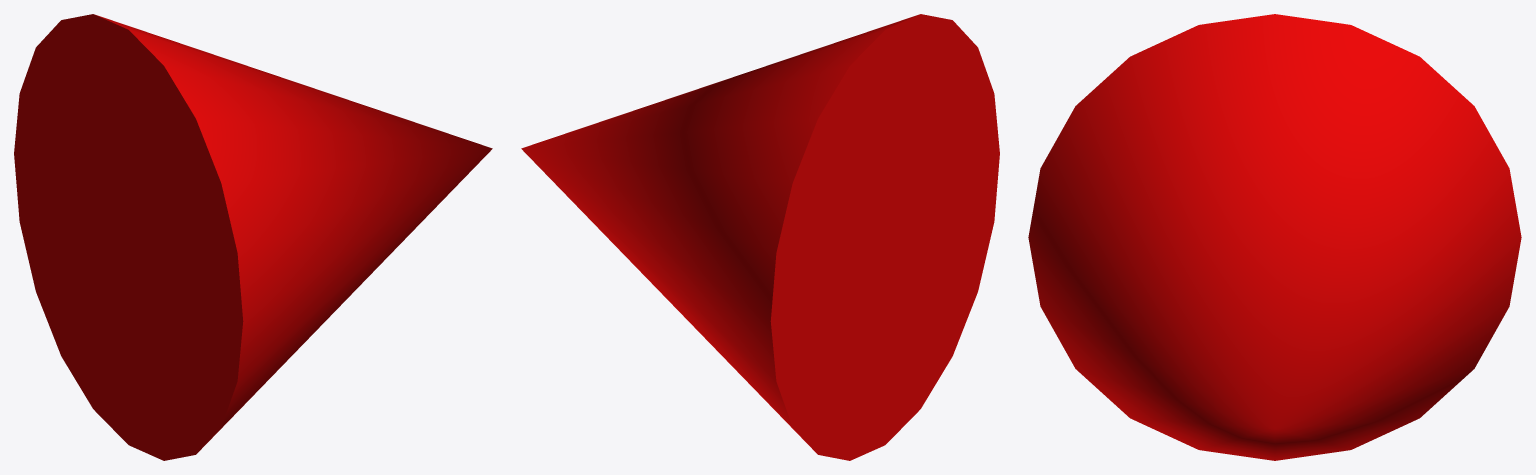
3 views of the same model, side by side, from view 1: azimuth 30°, elevation 25°; view 2: azimuth 150°, elevation 25°; view 3: azimuth 270°, elevation 25° (orthographic). The views are drawn at different scales.
Parts seen in each view (by area): view 1: pCone1; view 2: pCone1; view 3: pCone1.
Boxes of the visible parts, x1,y1,x2,y2 form: pCone1: (14, 14, 492, 460); pCone1: (521, 14, 999, 460); pCone1: (1028, 14, 1521, 460).
Size of the model in its own units: 12.6 by 13.73 by 13.73.
